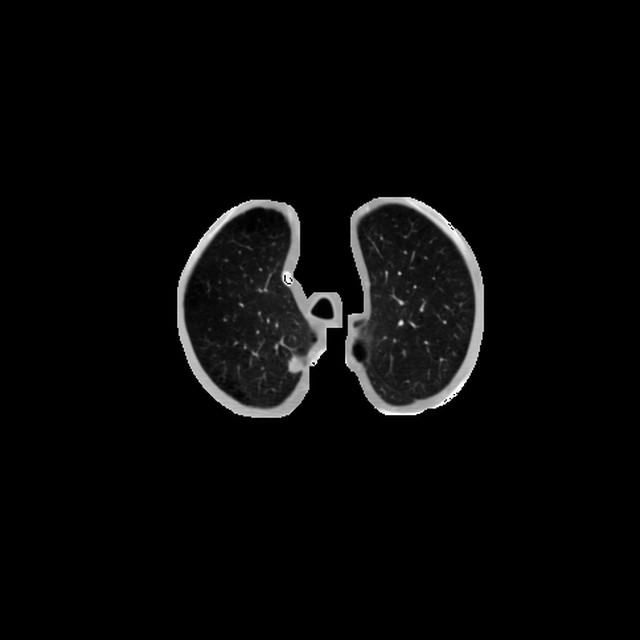PN: (286, 357, 301, 373)
